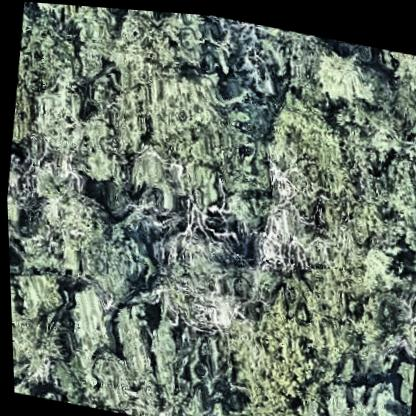tree-top: (291, 234, 398, 376), (119, 41, 242, 164), (114, 7, 221, 120), (35, 80, 136, 192), (221, 299, 317, 416), (148, 238, 250, 343), (201, 78, 285, 195), (348, 82, 416, 212), (267, 90, 356, 188), (68, 211, 155, 304), (29, 176, 114, 257), (17, 4, 90, 97), (245, 201, 326, 275), (85, 345, 166, 416), (307, 33, 382, 108), (168, 268, 243, 341), (304, 366, 408, 416), (58, 279, 122, 355), (144, 8, 213, 76), (9, 307, 62, 381), (12, 264, 69, 324), (38, 2, 122, 40), (7, 69, 41, 159), (387, 43, 416, 91), (11, 373, 42, 397)
